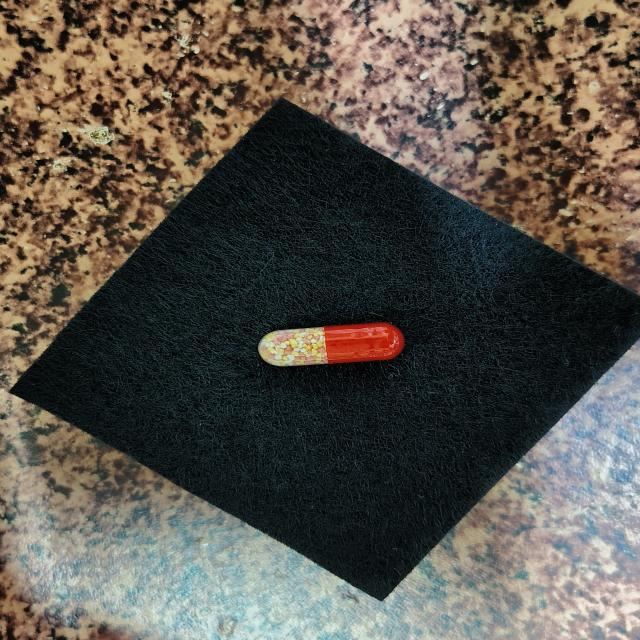Intact Capsule: (258, 322, 404, 366)
